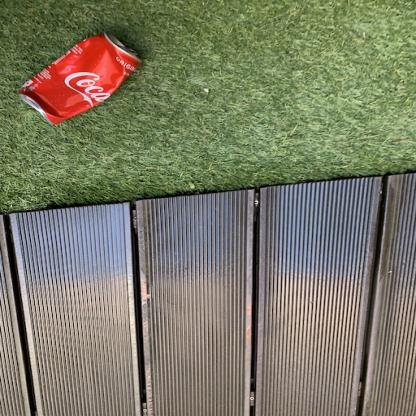trash: (25, 29, 141, 124)
